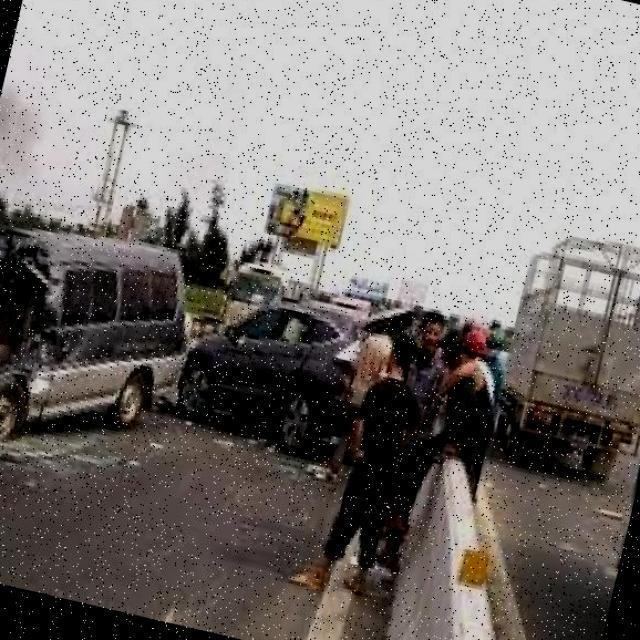accident: (0, 188, 131, 491)
